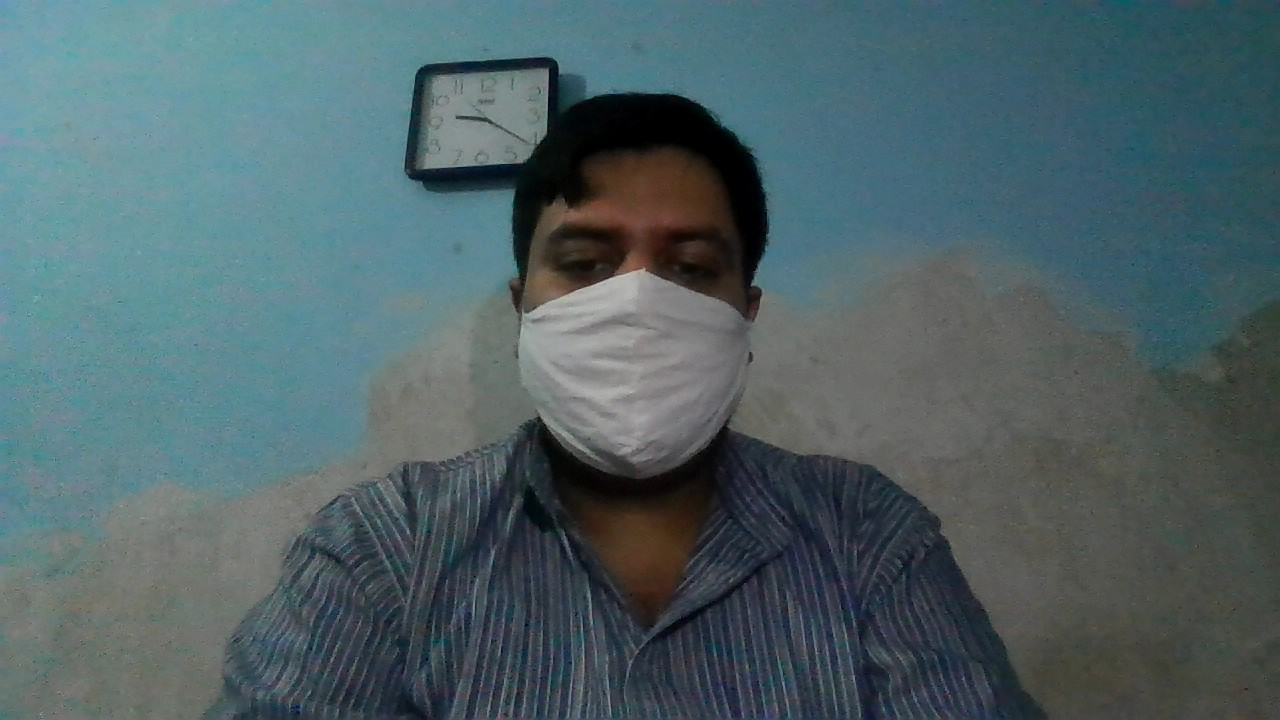Mask: (503, 267, 764, 483)
